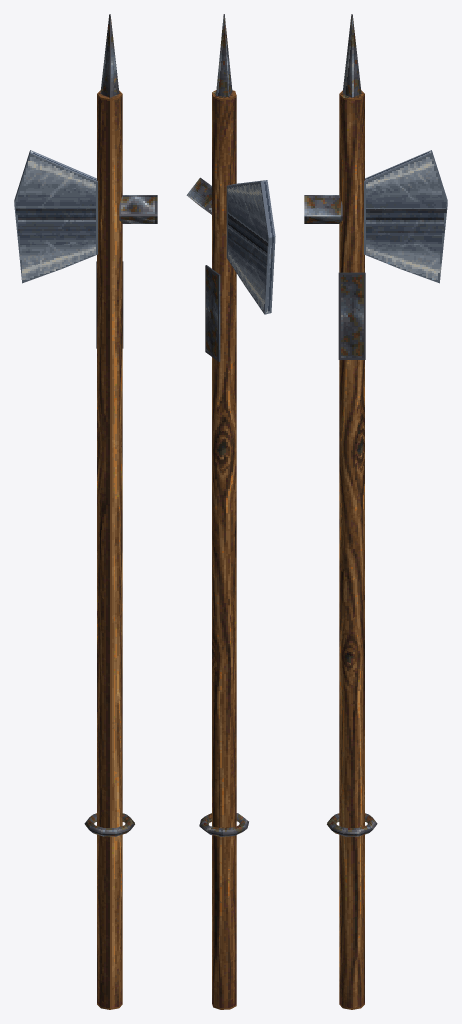
Rendered from poleaxe.glb.
The picture shows the model from 3 angles, left to right: view 1: azimuth 90°, elevation 25°; view 2: azimuth 210°, elevation 25°; view 3: azimuth 270°, elevation 25°; orthographic projection.
Visible parts, largest first — view 1: poleaxe; view 2: poleaxe; view 3: poleaxe.
Boxes of the visible parts, x1,y1,x2,y2 form: poleaxe: (14,14,157,1009); poleaxe: (186,14,275,1009); poleaxe: (304,14,447,1009).
Size of the model in its own units: 0.0609 by 1.37 by 0.18.
Materials: 1 (1 with a texture image).
